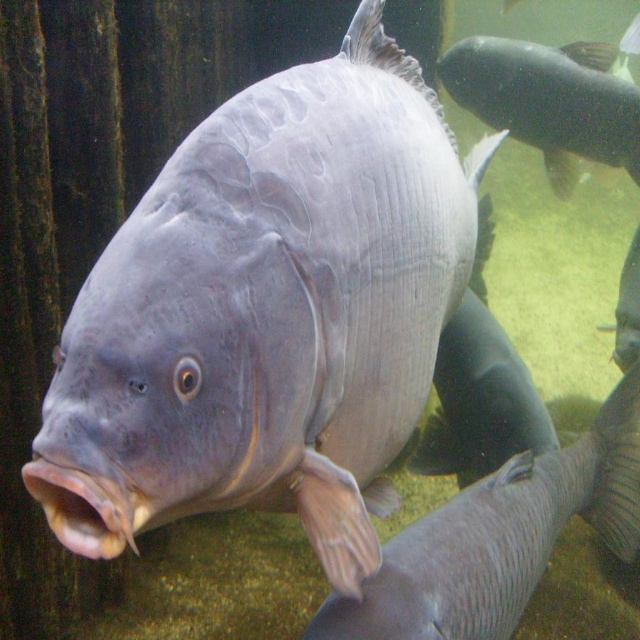Fish: (21, 0, 640, 640)
